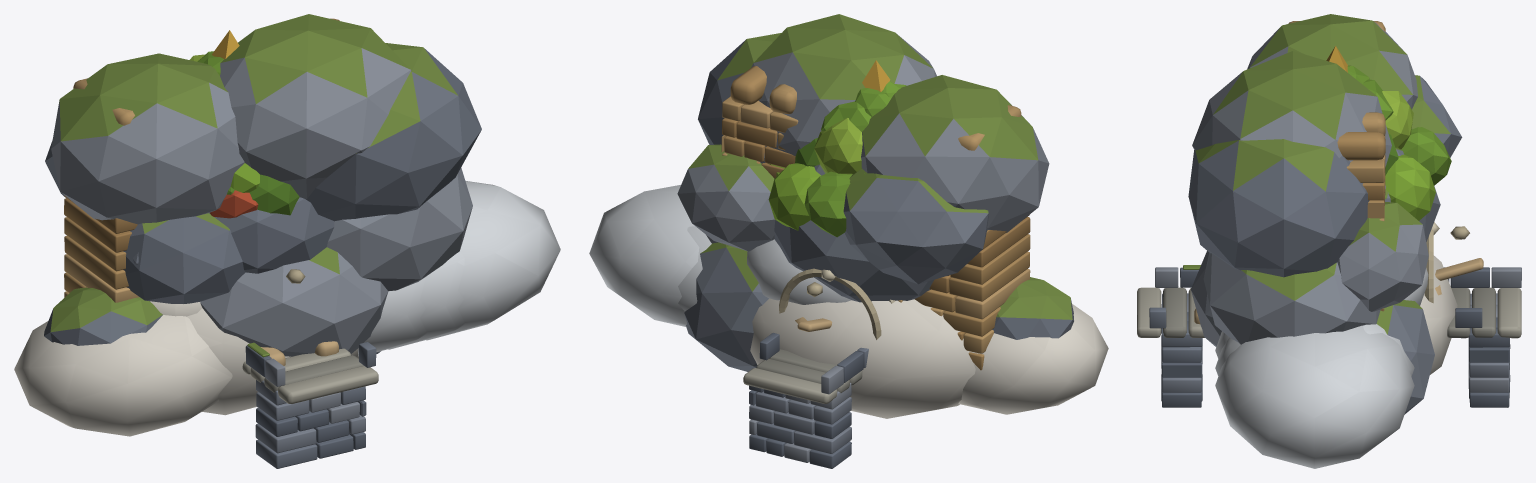
Rendered from props.glb.
3 renders of one model, left to right at view 1: azimuth 30°, elevation 25°; view 2: azimuth 150°, elevation 25°; view 3: azimuth 270°, elevation 25°, orthographic. The views are drawn at different scales.
Visible parts, largest first — view 1: prop_cliff, prop_cloud0, prop_bridge, prop_cloud2, prop_gate, prop_cloud1, prop_bigTree, prop_tree_red; view 2: prop_cliff, prop_cloud0, prop_gate, prop_bridge, prop_cloud2, prop_bigTree, prop_ribcage, prop_cloud1; view 3: prop_cliff, prop_cloud2, prop_bridge, prop_bigTree, prop_gate, prop_cloud0, prop_ribcage, prop_cloud1, prop_sphinx.
Boxes of the visible parts, left/top/right/bottom form: prop_cliff: left=44, top=14, right=481, bottom=356; prop_cloud0: left=14, top=277, right=426, bottom=436; prop_bridge: left=242, top=342, right=378, bottom=468; prop_cloud2: left=426, top=181, right=560, bottom=340; prop_gate: left=64, top=18, right=339, bottom=302; prop_cloud1: left=387, top=251, right=464, bottom=349; prop_bigTree: left=190, top=51, right=299, bottom=215; prop_tree_red: left=210, top=190, right=258, bottom=218; prop_cliff: left=677, top=14, right=1073, bottom=371; prop_cloud0: left=747, top=239, right=1108, bottom=418; prop_gate: left=721, top=66, right=1030, bottom=370; prop_bridge: left=743, top=333, right=868, bottom=468; prop_cloud2: left=589, top=185, right=699, bottom=326; prop_bigTree: left=767, top=81, right=906, bottom=237; prop_ribcage: left=779, top=268, right=895, bottom=339; prop_cloud1: left=678, top=226, right=711, bottom=311; prop_cliff: left=1188, top=14, right=1462, bottom=414; prop_cloud2: left=1215, top=325, right=1414, bottom=468; prop_bridge: left=1137, top=265, right=1521, bottom=407; prop_bigTree: left=1347, top=65, right=1451, bottom=220; prop_gate: left=1288, top=21, right=1385, bottom=311; prop_cloud0: left=1215, top=255, right=1457, bottom=374; prop_ribcage: left=1424, top=222, right=1469, bottom=303; prop_cloud1: left=1215, top=324, right=1414, bottom=376; prop_sphinx: left=1194, top=258, right=1483, bottom=324.
Bounding box in the file's own units: 13.69 × 9.25 × 9.26.
